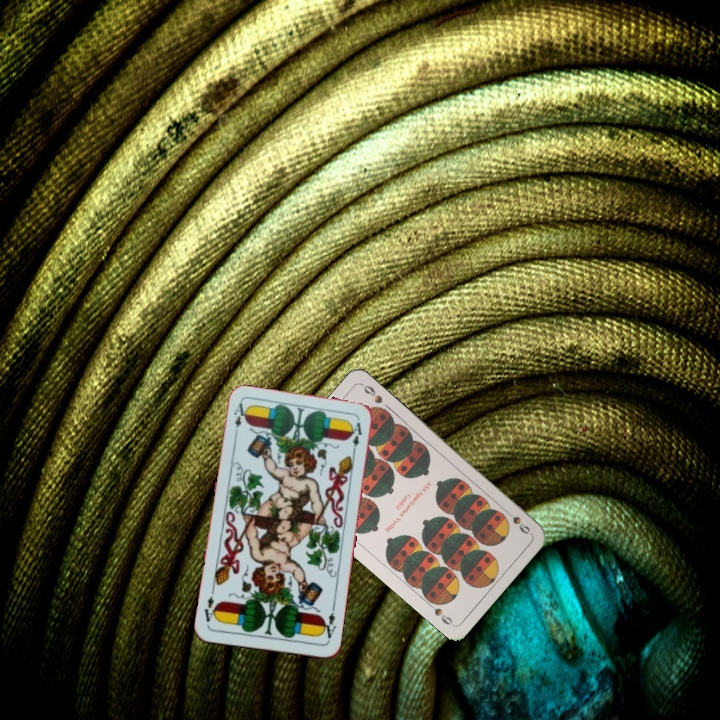EA: (318, 603, 339, 643), (230, 399, 248, 439)
S9: (500, 505, 533, 537)
